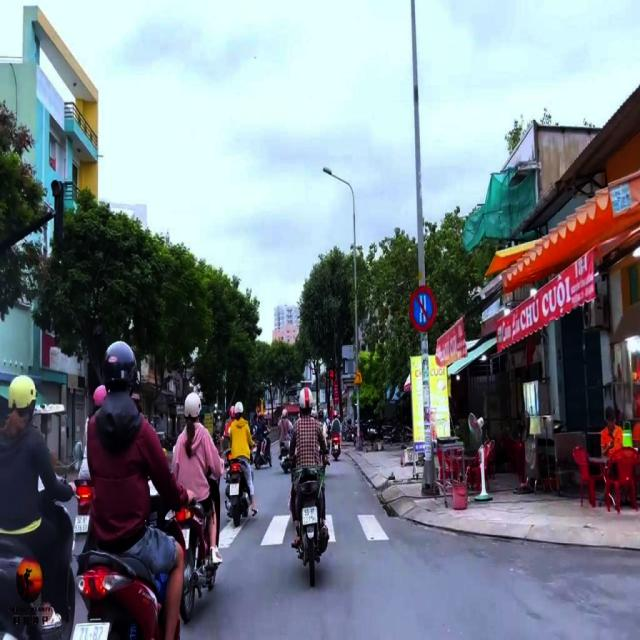cam_do_xe: (409, 283, 437, 332)
cho_ngoat_nguy_hiem_ben_trai: (351, 367, 362, 383)
